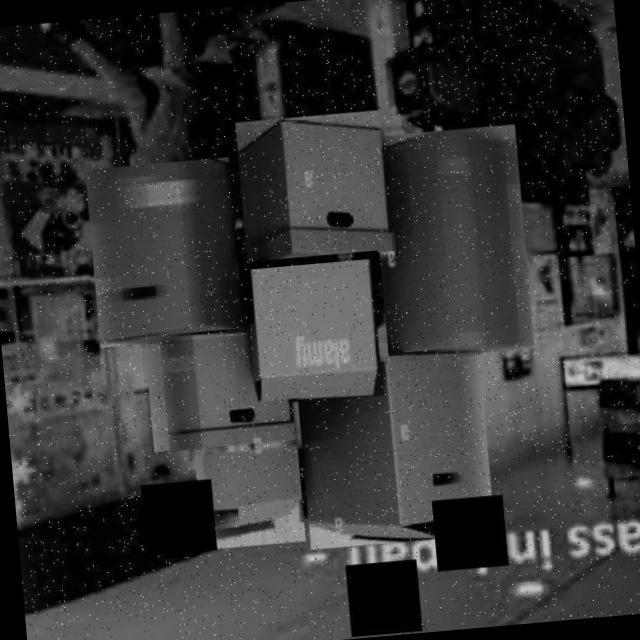box: (290, 348, 498, 552), (364, 120, 534, 363), (80, 152, 246, 347), (232, 106, 393, 263), (140, 316, 297, 454), (246, 255, 384, 406), (192, 444, 306, 550)
